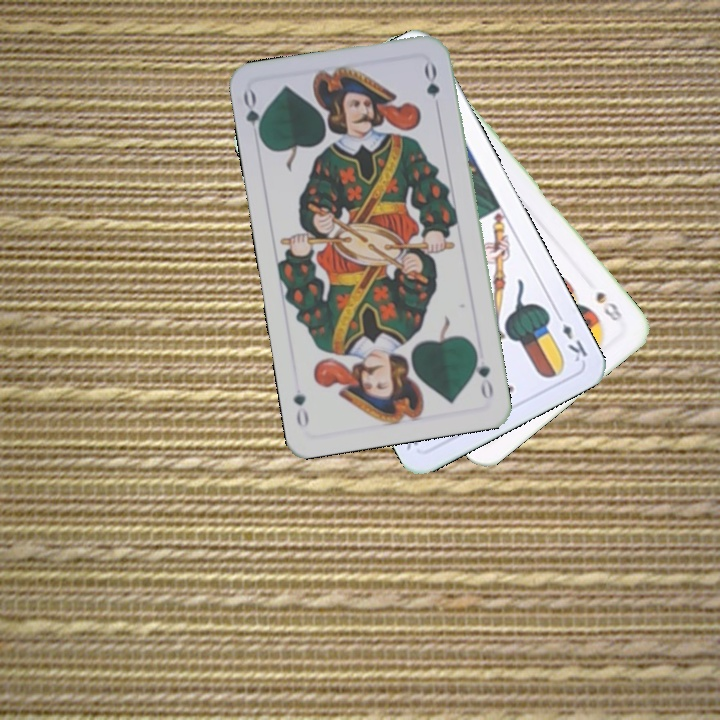EK: (552, 308, 590, 365)
GO: (239, 87, 267, 145), (470, 345, 496, 403)
S8: (591, 287, 625, 324)
